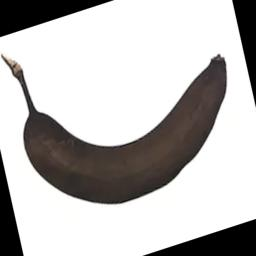Banana Rotten: (3, 49, 254, 201)
